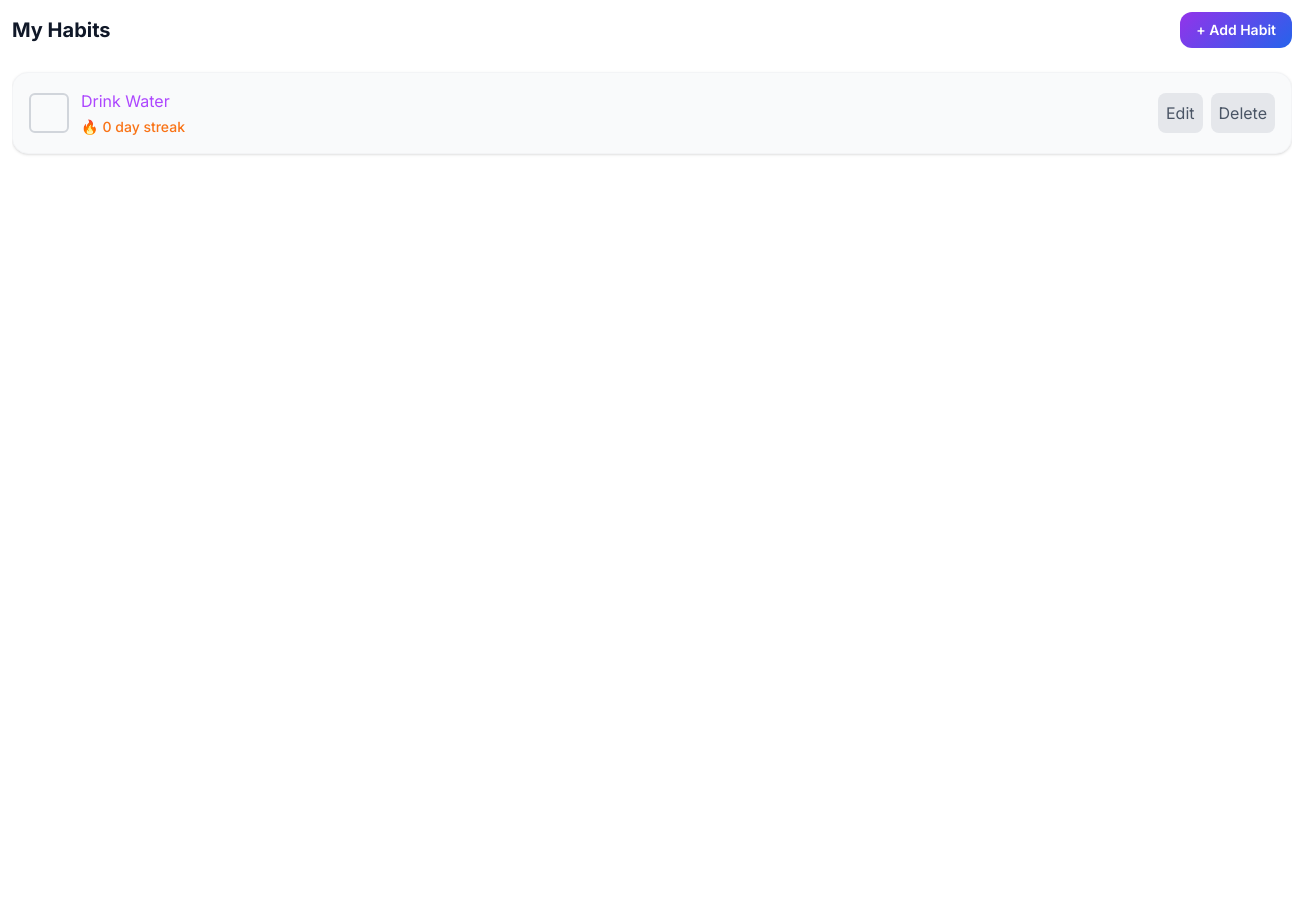
Test: habit form › edits an existing habit and preserves immutable fields
The width and height of the screenshot is (1304, 912).
// click edit button on the habit card
Click the button with test id "habit-edit-drink-water" at {"x": 1180, "y": 113}, box [1158,93,1202,133]
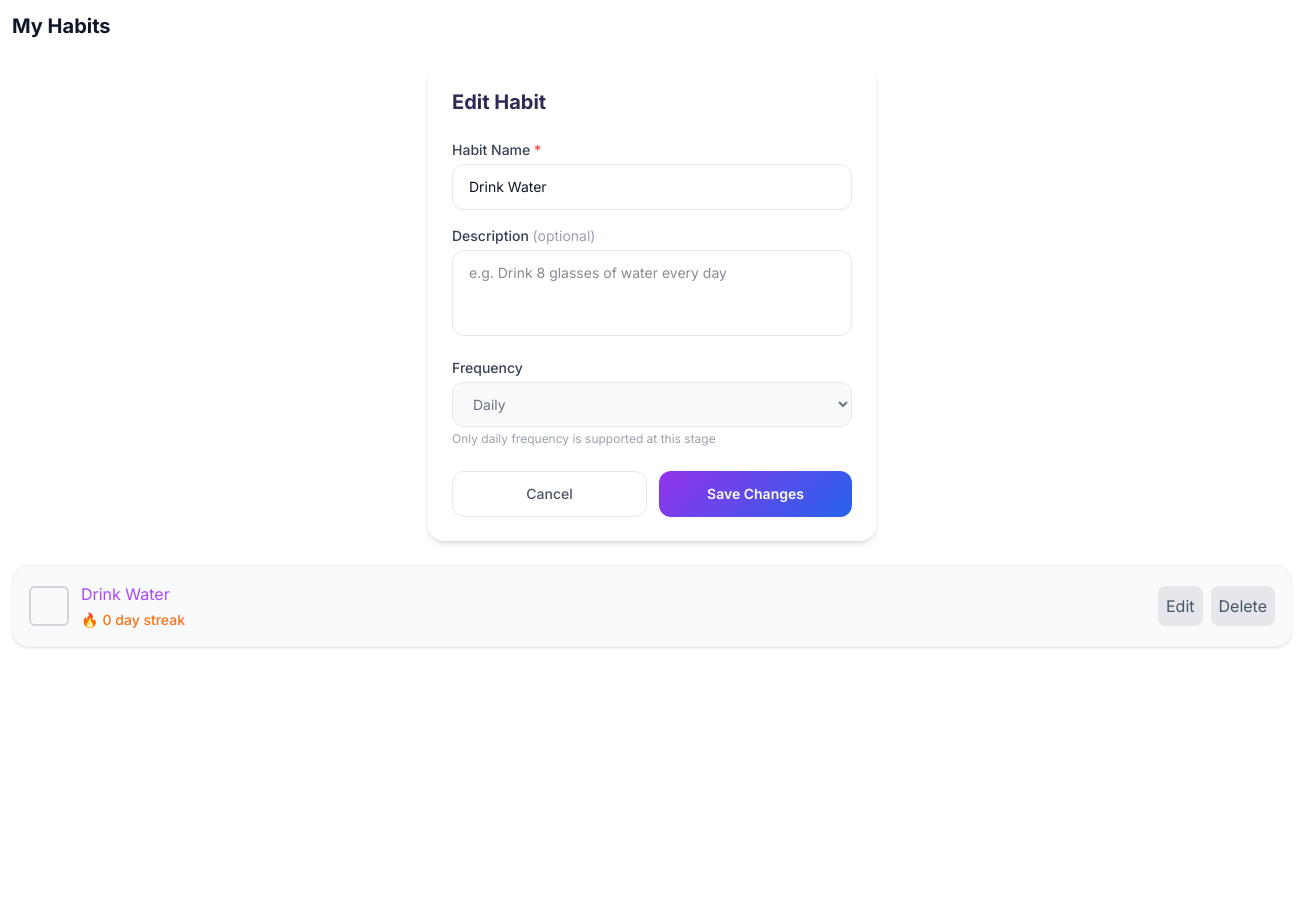
// change the name
Replace the text in the field with test id "habit-name-input" with "Drink More Water" at {"x": 652, "y": 187}, box [452,164,852,210]
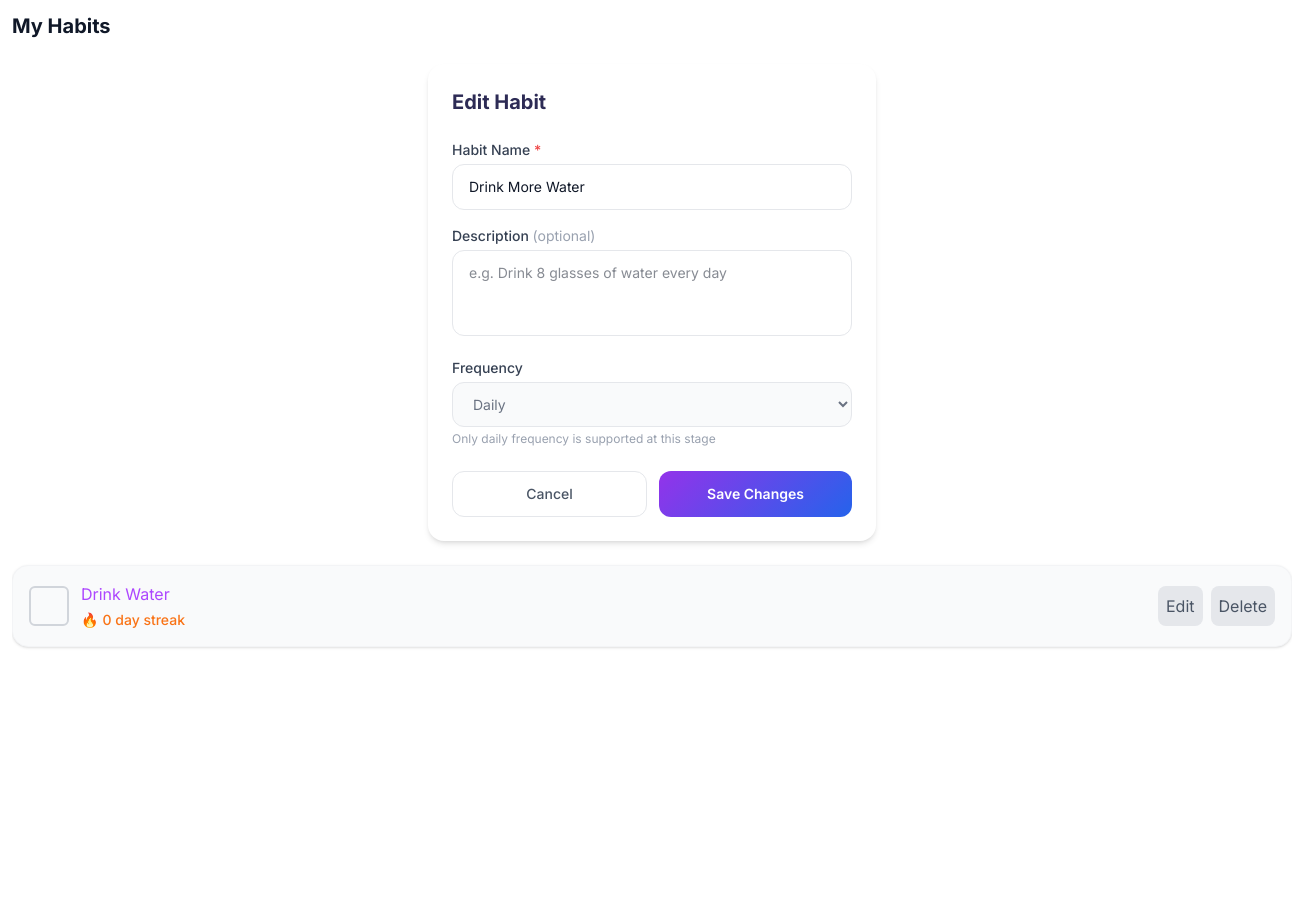
// save changes
Click the button with test id "habit-save-button" at {"x": 756, "y": 494}, box [659,471,852,517]
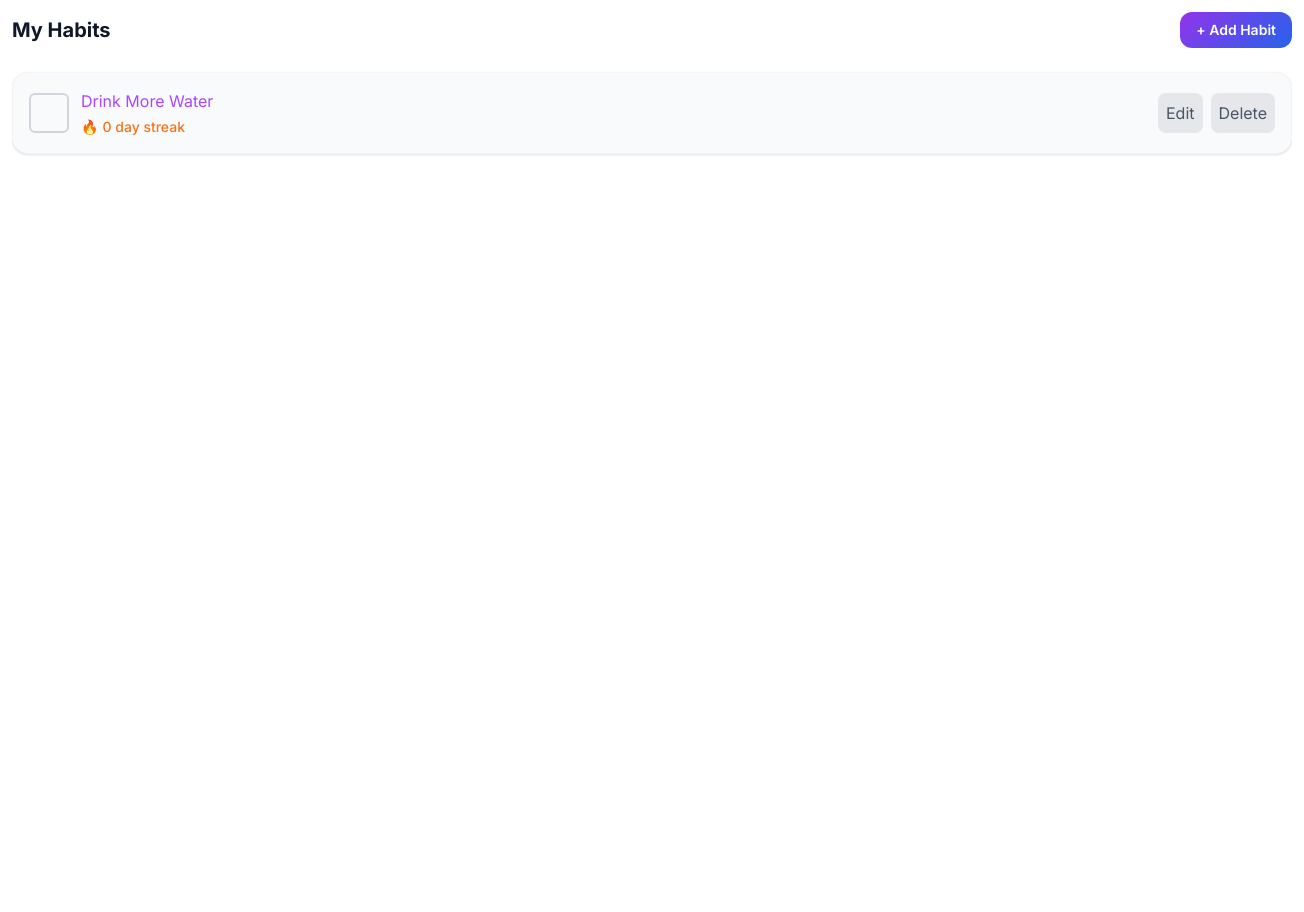
Check: the element with test id "habit-card-drink-more-water" is shown, box [12,72,1292,154]
